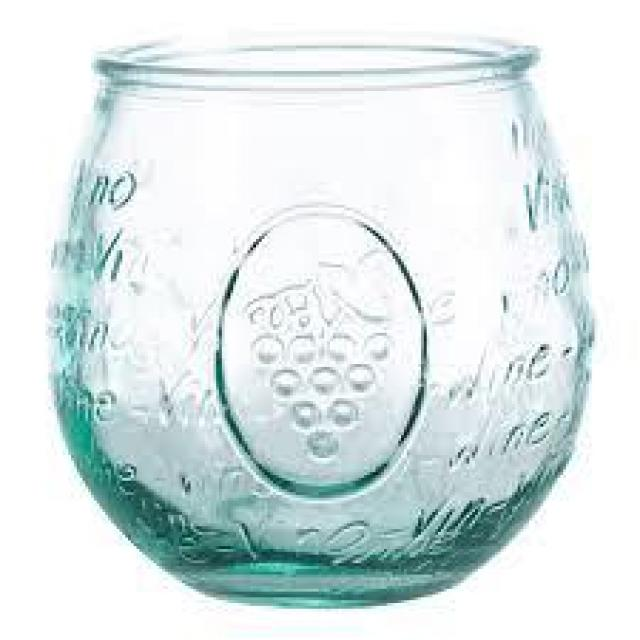non-organic waste: (40, 36, 597, 607)
